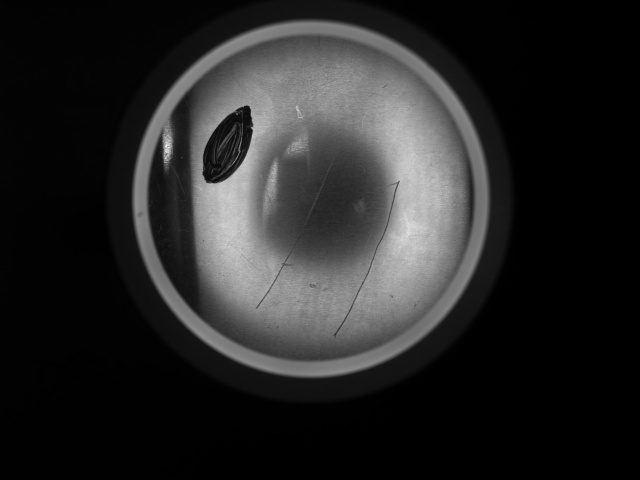ca_shang: (253, 146, 343, 314), (328, 181, 401, 335)
zang_wu: (198, 102, 258, 183)
